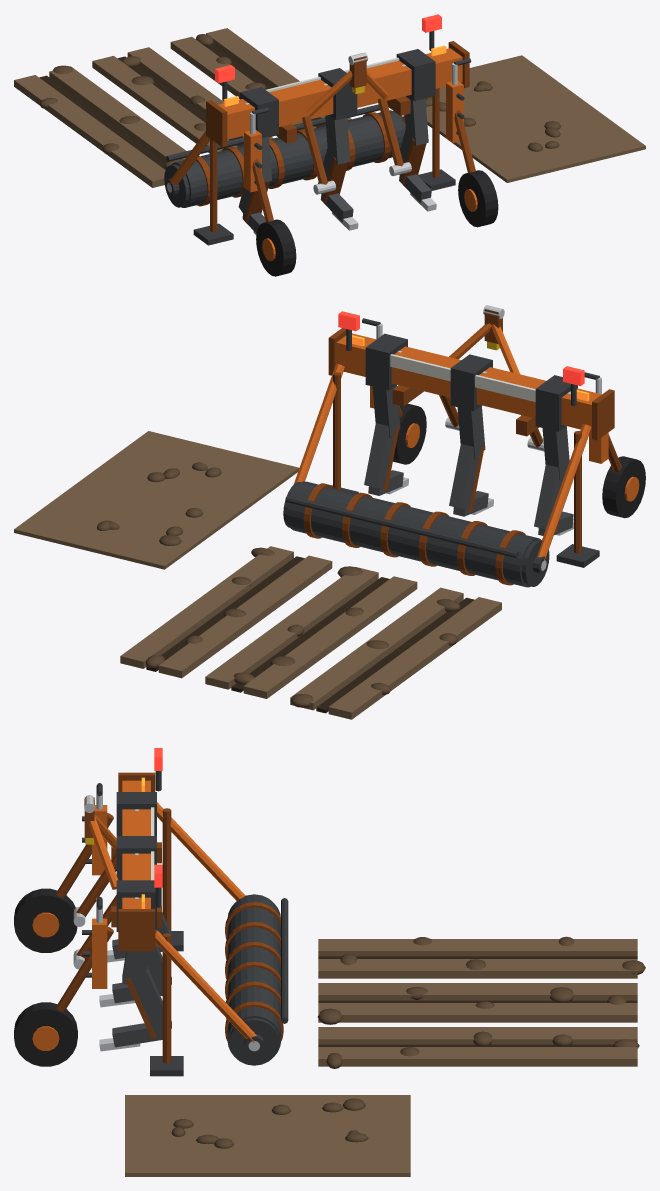
The model's file is subsoiler.glb.
3 views of the same model, one above another, from view 1: azimuth 30°, elevation 25°; view 2: azimuth 150°, elevation 25°; view 3: azimuth 270°, elevation 25° (orthographic). The views are drawn at different scales.
Parts seen in each view (by area): view 1: CrackedFieldProps, SubsoilerBody, PackerRoller; view 2: CrackedFieldProps, SubsoilerBody, PackerRoller; view 3: CrackedFieldProps, SubsoilerBody, PackerRoller.
Part boxes in pixels (left/top/right/bottom): CrackedFieldProps: left=14, top=28, right=645, bottom=187; SubsoilerBody: left=165, top=14, right=498, bottom=276; PackerRoller: left=164, top=110, right=405, bottom=207; CrackedFieldProps: left=14, top=431, right=501, bottom=719; SubsoilerBody: left=285, top=305, right=645, bottom=574; PackerRoller: left=283, top=481, right=549, bottom=587; CrackedFieldProps: left=125, top=936, right=645, bottom=1176; SubsoilerBody: left=14, top=748, right=288, bottom=1076; PackerRoller: left=225, top=894, right=283, bottom=1065.
Size of the model in its own units: 3.38 by 1.36 by 3.76.
